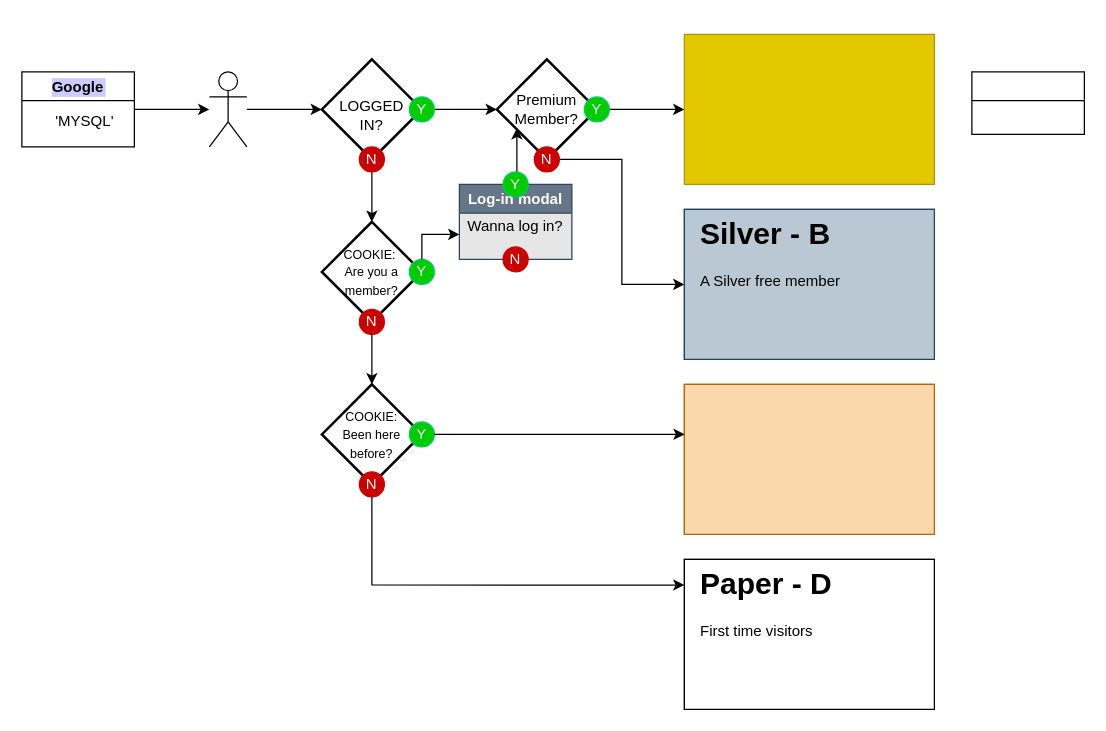
The diagram is 1106 pixels wide and 731 high, and some of its shapes have lost their labels. Here are the shapes that lost their labels. From the top down, the centre of each, then its label:
At point 227,109: "User".
At point 808,108: "Gold - A A Premium paying member".
At point 1027,102: "Post: MySQL".
At point 808,458: "Bronze - C Returning non-members".
